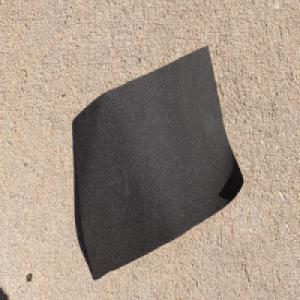PaintChip: (72, 44, 247, 284)
